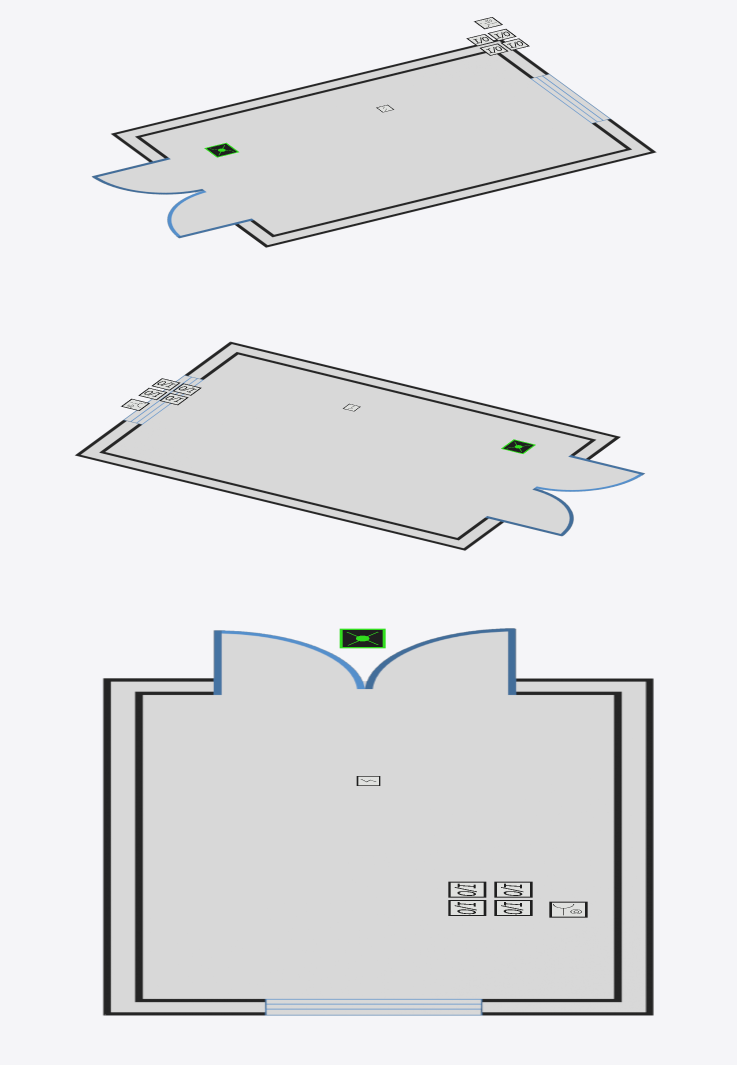
The model's file is XFJ.gltf.
3 views of the same model, one above another, from view 1: azimuth 30°, elevation 25°; view 2: azimuth 150°, elevation 25°; view 3: azimuth 270°, elevation 25° (orthographic). The views are drawn at different scales.
Visible parts, largest first — view 1: NC_RM_Floor_主变泡沫喷淋室; view 2: NC_RM_Floor_主变泡沫喷淋室; view 3: NC_RM_Floor_主变泡沫喷淋室, NC_RM_Dev_疏散指示灯_11.
Part boxes in pixels (left/top/right/bottom): NC_RM_Floor_主变泡沫喷淋室: left=92, top=40, right=656, bottom=247; NC_RM_Floor_主变泡沫喷淋室: left=75, top=341, right=644, bottom=550; NC_RM_Floor_主变泡沫喷淋室: left=103, top=628, right=653, bottom=1015; NC_RM_Dev_疏散指示灯_11: left=339, top=628, right=385, bottom=648.
Size of the model in its own units: 6558 by 517 by 4477.
Materials: 2 (2 with a texture image).
